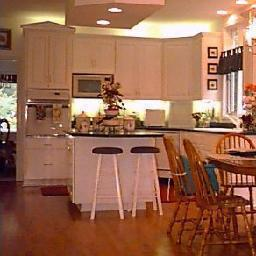Armario: (24, 25, 70, 183)
Lavaplatos: (192, 107, 243, 135)
